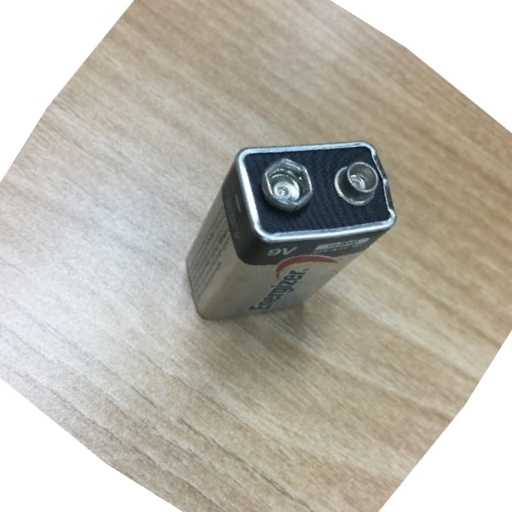Battery_3: (172, 123, 401, 354)
